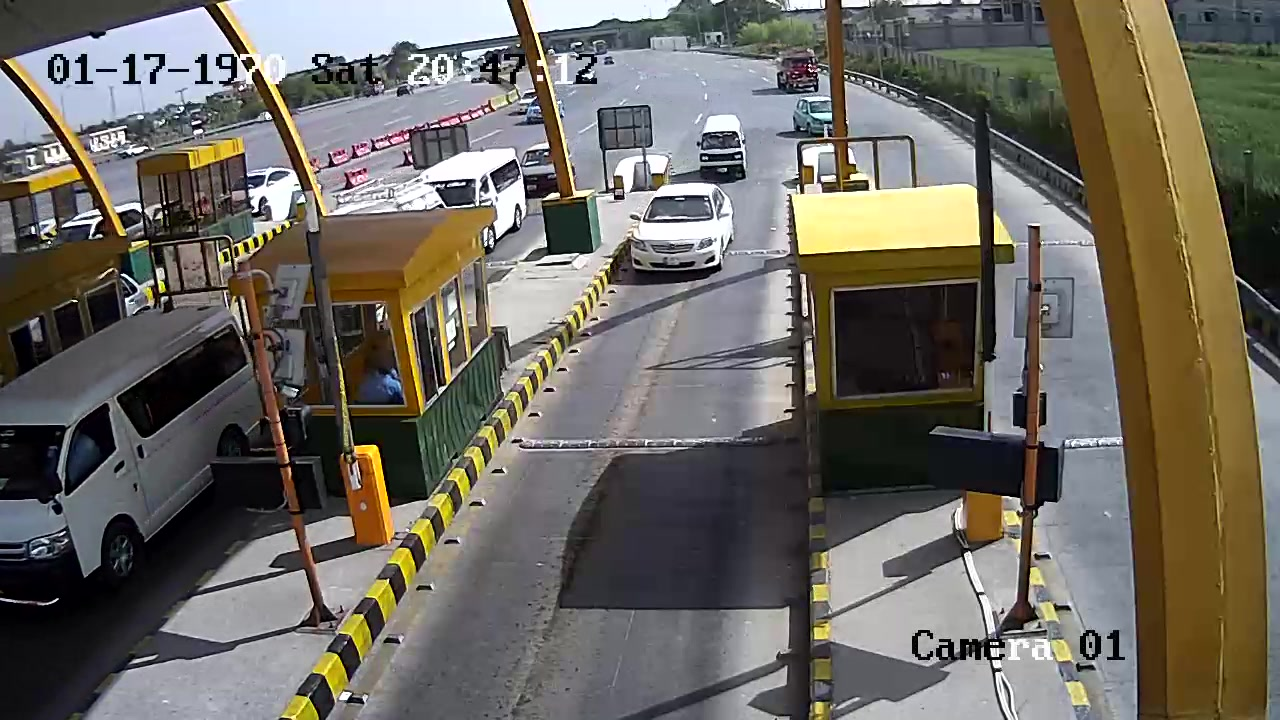F1: (629, 186, 743, 283)
